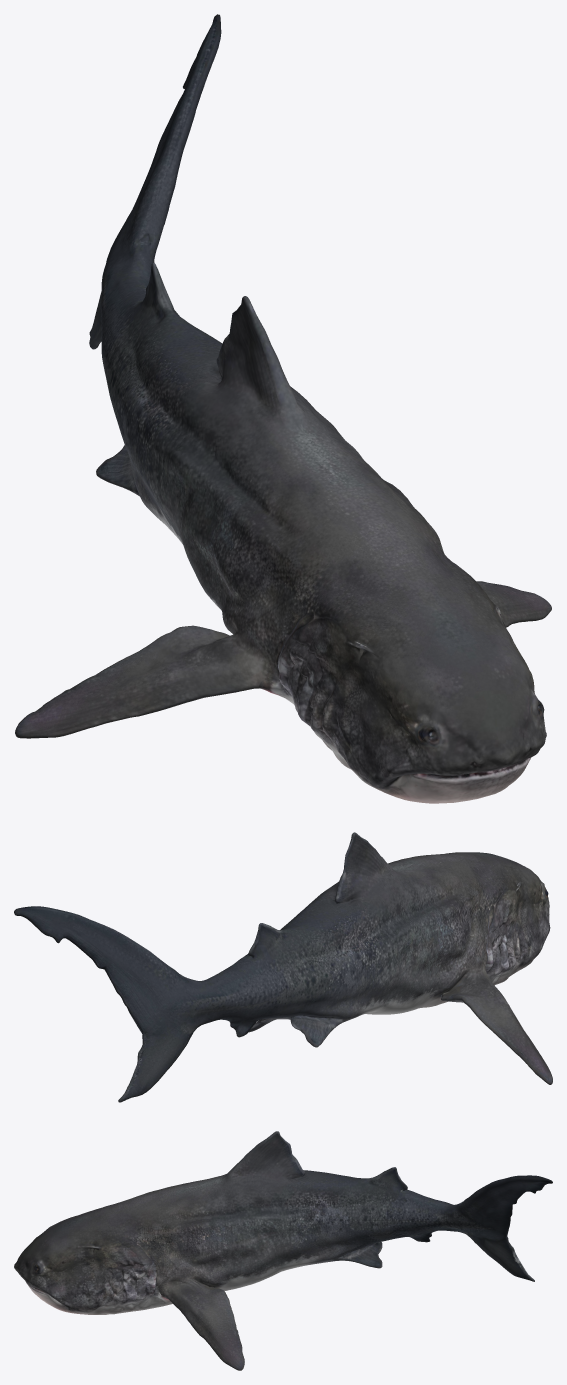
The model's file is megamouth.glb.
3 renders of one model, top to bottom at view 1: azimuth 30°, elevation 25°; view 2: azimuth 150°, elevation 25°; view 3: azimuth 270°, elevation 25°, orthographic. The views are drawn at different scales.
Parts seen in each view (by area): view 1: Object_4; view 2: Object_4; view 3: Object_4.
Boxes of the visible parts, box(x1,y1,x2,y2) form: Object_4: box(15, 14, 551, 803); Object_4: box(14, 832, 552, 1102); Object_4: box(14, 1131, 552, 1370).
Size of the model in its own units: 0.5715 by 0.3894 by 0.9998.
Materials: 1 (1 with a texture image).
